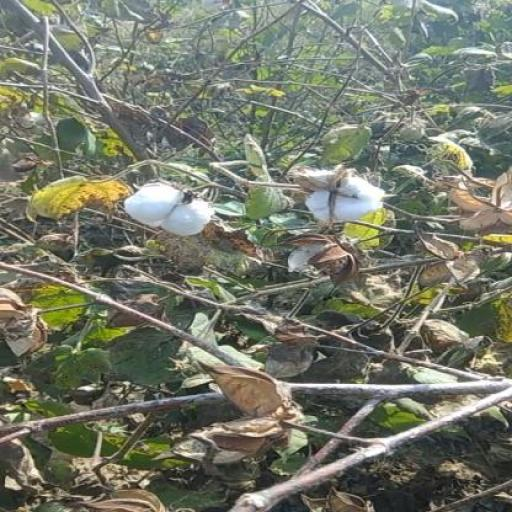cotton_ready: (281, 159, 403, 237), (115, 168, 233, 248)
